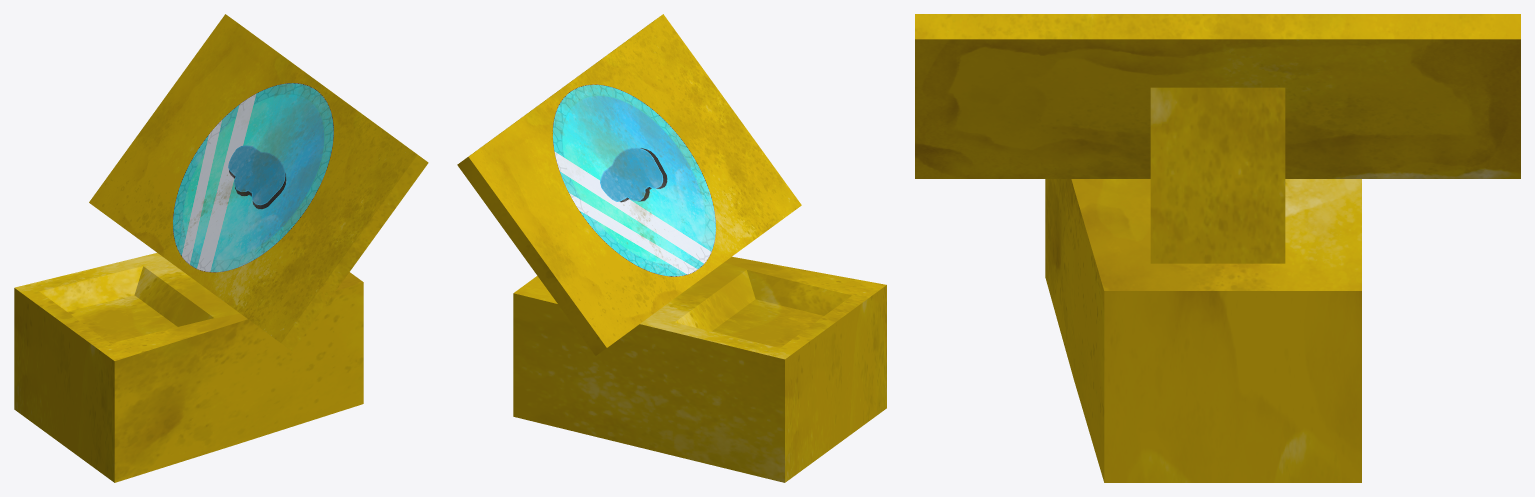
Rendered from Activador_nube.glb.
3 views of the same model, side by side, from view 1: azimuth 30°, elevation 25°; view 2: azimuth 150°, elevation 25°; view 3: azimuth 270°, elevation 25° (orthographic). The views are drawn at different scales.
Parts seen in each view (by area): view 1: N_activador.002; view 2: N_activador.002; view 3: N_activador.002.
Boxes of the visible parts, x1,y1,x2,y2 form: N_activador.002: (14, 14, 428, 482); N_activador.002: (457, 14, 886, 482); N_activador.002: (915, 14, 1520, 482).
Size of the model in its own units: 1.01 by 1.04 by 1.23.
Materials: 1 (1 with a texture image).
